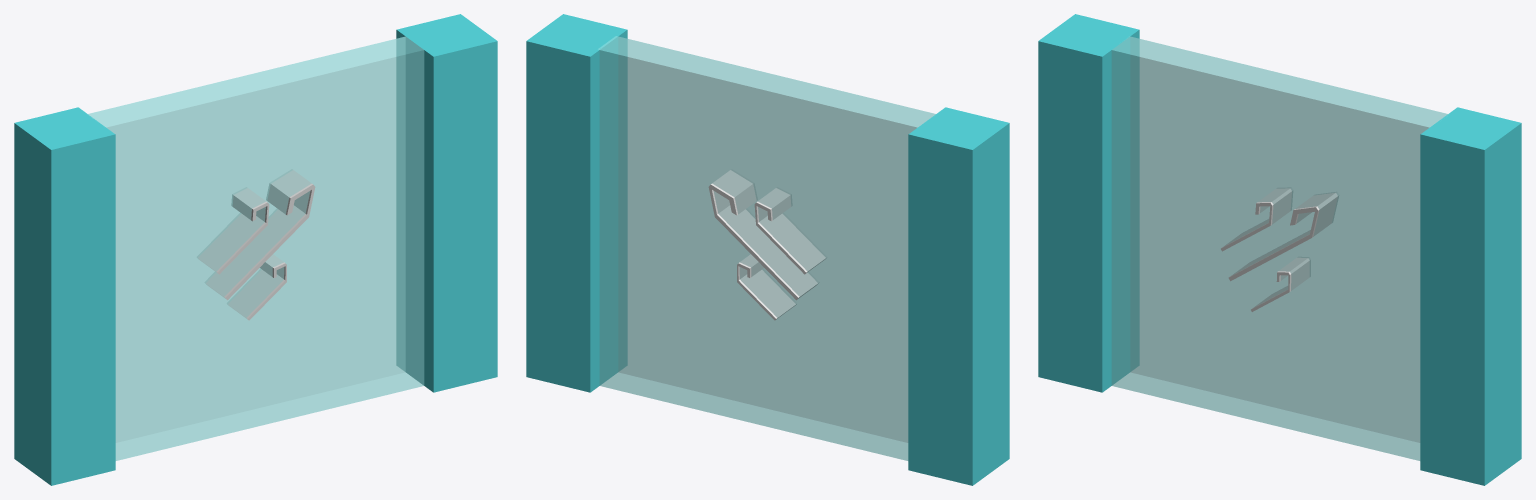
The model's file is FastUpgrade.fbx.
3 views of the same model, side by side, from view 1: azimuth 30°, elevation 25°; view 2: azimuth 150°, elevation 25°; view 3: azimuth 330°, elevation 25° (orthographic).
Visible parts, largest first — view 1: Cube, Cube.002, Cube.001, Cube.003; view 2: Cube, Cube.002, Cube.001, Cube.003; view 3: Cube, Cube.002, Cube.001, Cube.003.
Boxes of the visible parts, x1,y1,x2,y2 form: Cube: [14, 14, 497, 485]; Cube.002: [205, 169, 315, 300]; Cube.001: [197, 187, 269, 274]; Cube.003: [227, 254, 286, 320]; Cube: [526, 14, 1009, 485]; Cube.002: [708, 169, 818, 300]; Cube.001: [754, 187, 826, 274]; Cube.003: [737, 254, 796, 320]; Cube: [1038, 14, 1521, 485]; Cube.002: [1228, 192, 1338, 281]; Cube.001: [1221, 187, 1292, 251]; Cube.003: [1251, 257, 1310, 311].
Bounding box in the file's own units: 139 × 100 × 20.
